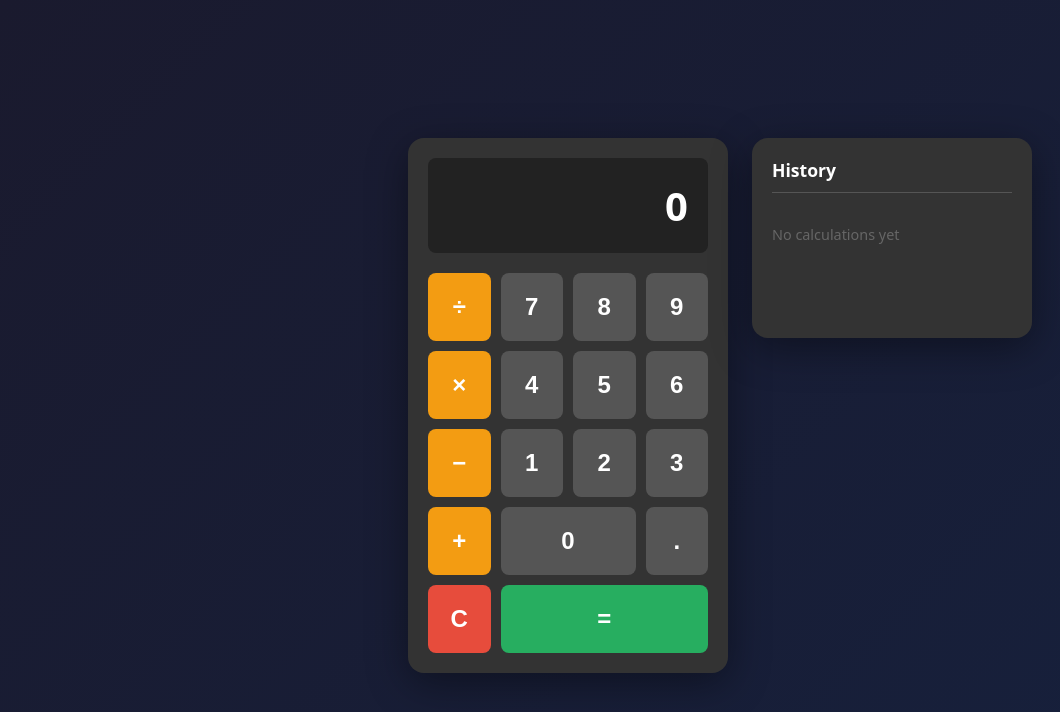
Calculator History › renders the calculator and records 2 + 3 = 5 in history
Click the button with test id "num-2". click: {"x": 604, "y": 462}
box: [573,428,636,496]
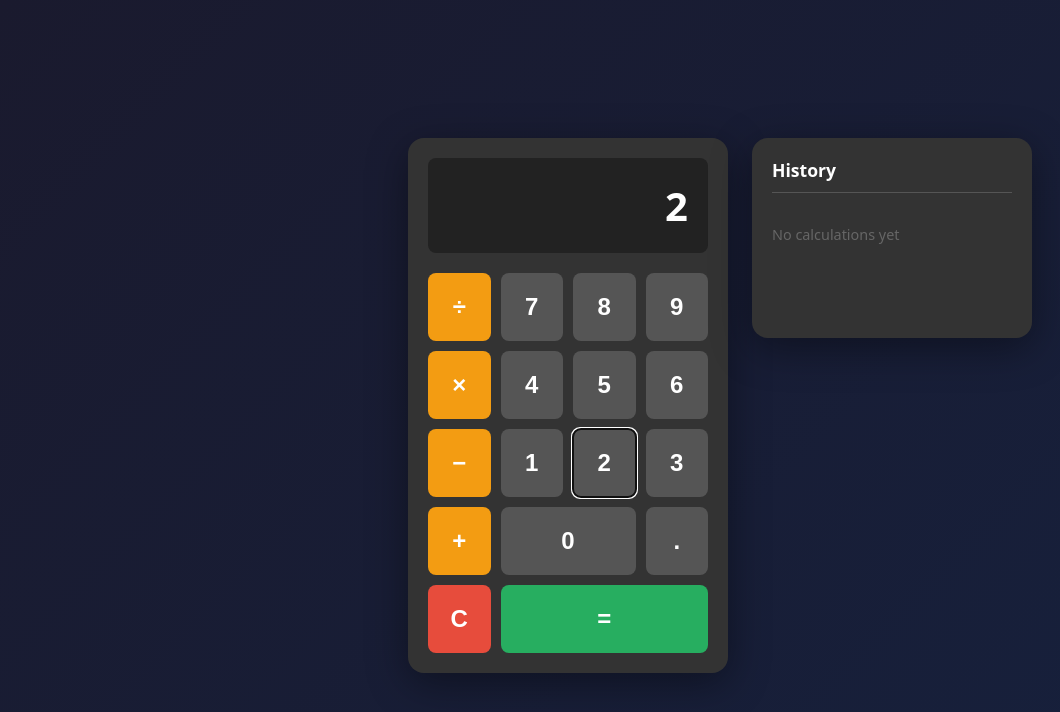
Click the button with test id "op-add". click: {"x": 459, "y": 540}
box: [428,506,490,574]
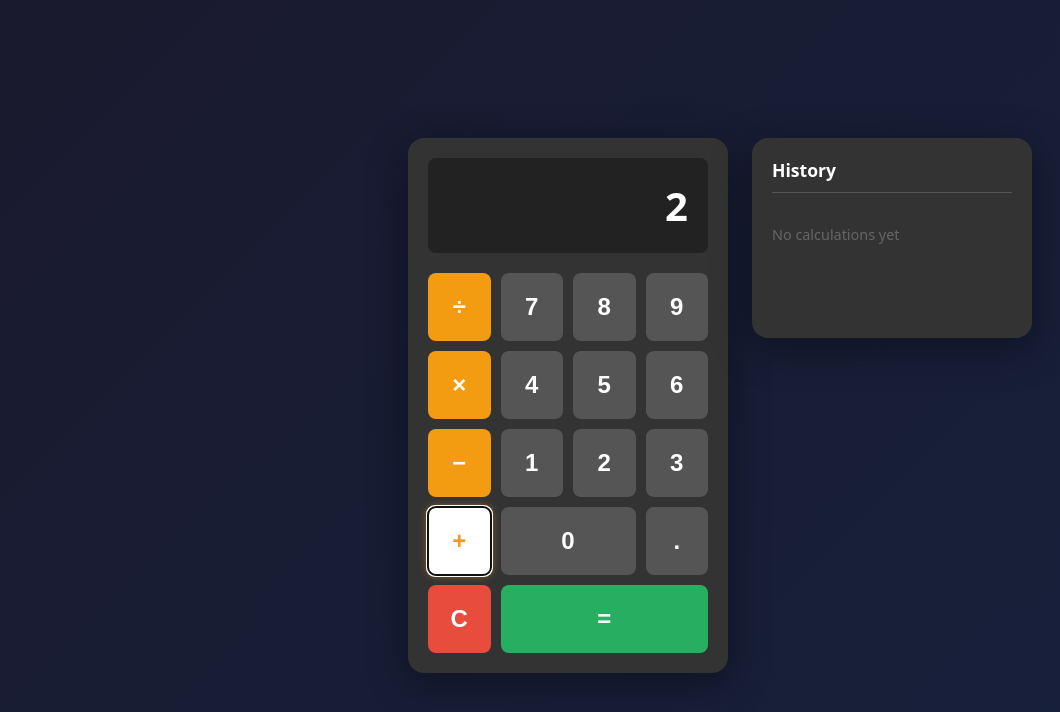
Click the button with test id "num-3". click: {"x": 677, "y": 462}
box: [646,428,708,496]
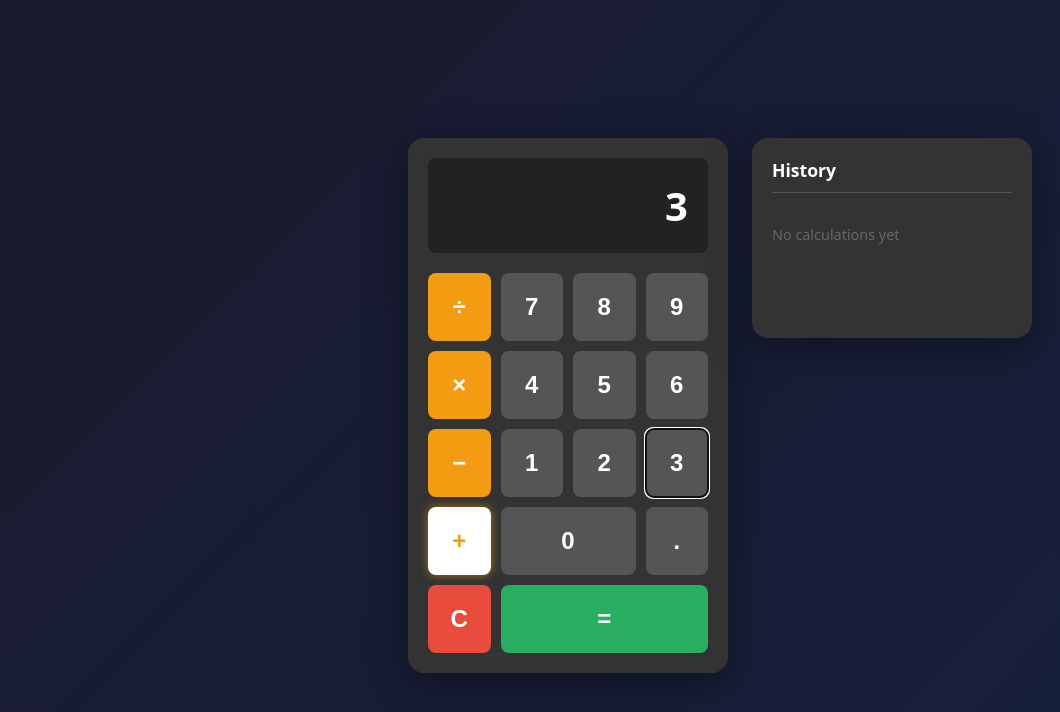
Click the button with test id "equals". click: {"x": 604, "y": 618}
box: [500,584,708,652]
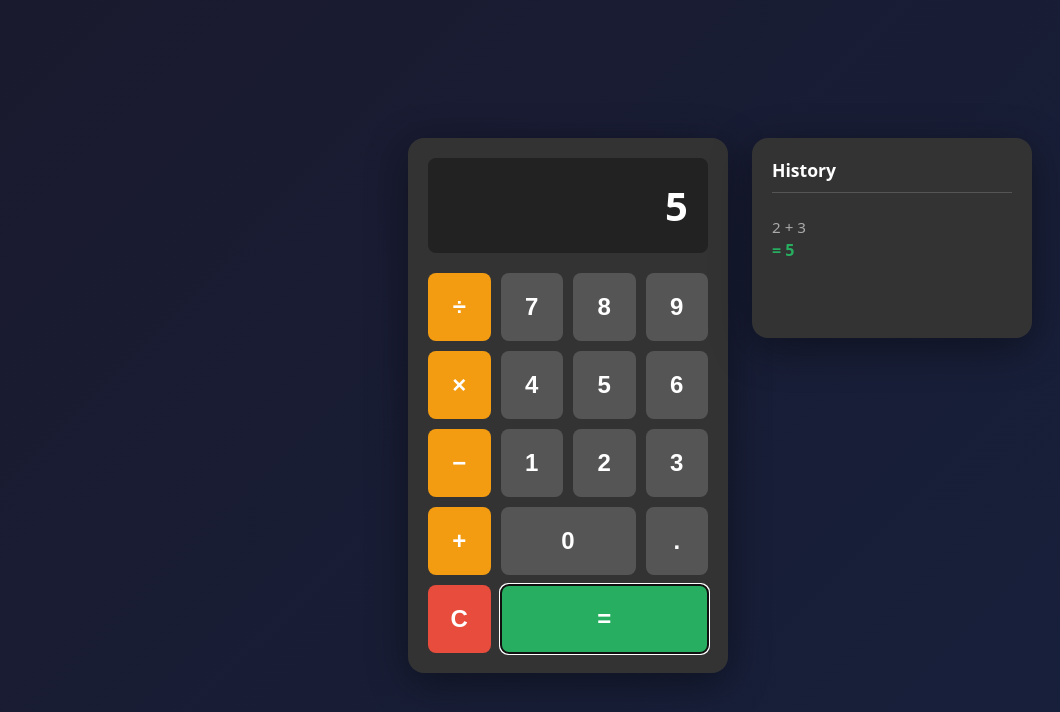
Result: the text with test id "display" reads "5" at [665,178,688,232]
Result: the list item with test id "history-item" shows "2 + 3" at [772,216,806,236]
Result: the list item with test id "history-item" shows "= 5" at [772,216,806,260]
